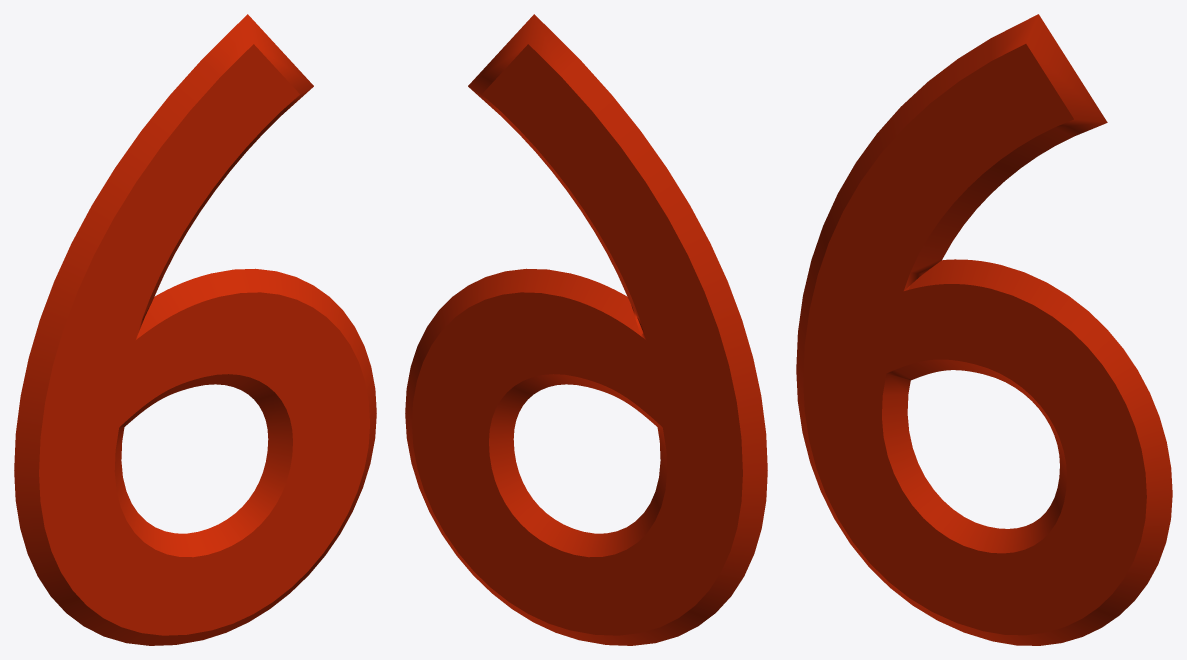
File: six.obj
The picture shows the model from 3 angles, left to right: view 1: azimuth 30°, elevation 25°; view 2: azimuth 150°, elevation 25°; view 3: azimuth 330°, elevation 25°; orthographic projection. The views are drawn at different scales.
Parts seen in each view (by area): view 1: Text; view 2: Text; view 3: Text.
Part boxes in pixels (box(x1,y1,x2,y2)): Text: box(14, 14, 376, 645); Text: box(405, 14, 767, 645); Text: box(796, 14, 1172, 645).
Bounding box in the file's own units: 0.4611 × 0.7475 × 0.04.
